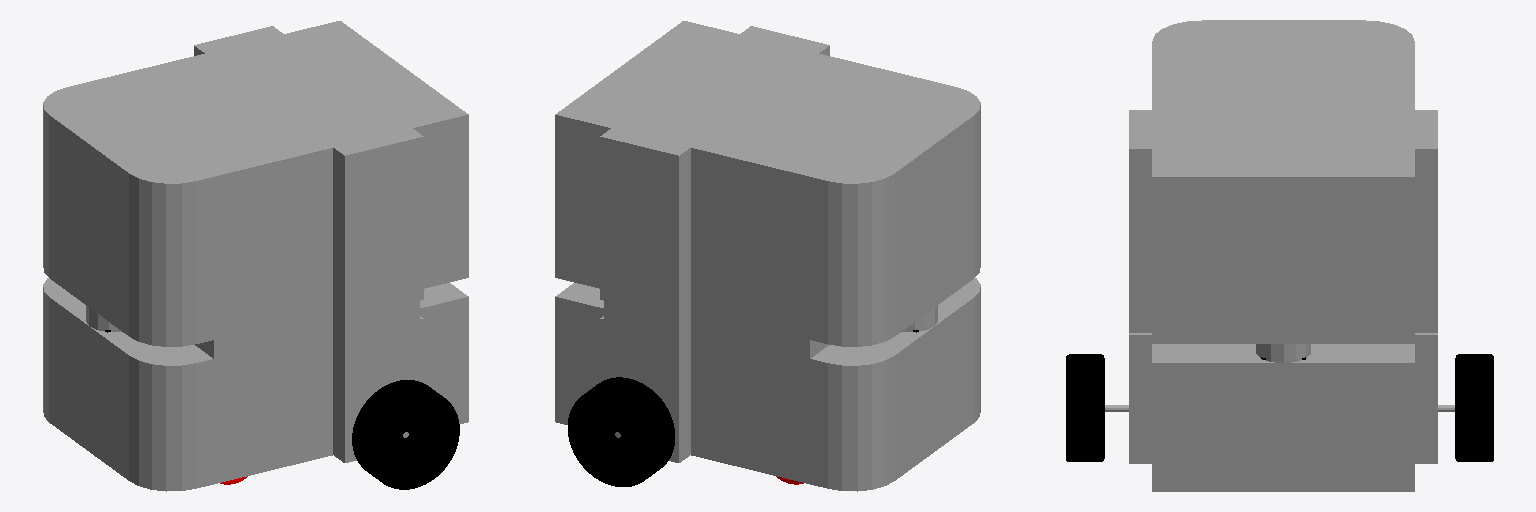
The robot description file, URDF, robot "myrobot":
<?xml version="1.0" ?>
<robot name="myrobot">
    <material name="white">
        <color rgba="1 1 1 1" />
    </material>
    <material name="bone">
        <color rgba="0.8 0.8 0.8 1" />
    </material>
    <material name="orange">
        <color rgba="1 0.3 0.1 1"/>
    </material>
    <material name="gray">
        <color rgba="0.7 0.7 0.7 1"/>
    </material>
    <material name="blue">
        <color rgba="0.2 0.2 1 1"/>
    </material>
    <material name="black">
        <color rgba="0 0 0 1"/>
    </material>
    <material name="red">
        <color rgba="1 0 0 1"/>
    </material>

    <!-- Base link -->
    <link name="base_link">
        <inertial>
            <origin xyz="0.00777178436482716 -1.12354729039397E-17 0.246949943244965" rpy="0 0 0" />
            <mass value="96.0948572509794" />
            <inertia ixx="3.14245232437096" ixy="-1.04912304881371E-16" ixz="0.0161471407091991" iyy="4.0258724967387" iyz="-1.47864698550876E-16" izz="3.27945603833626" />
        </inertial>
        <visual>
            <origin xyz="0 0 0" rpy="0 0 0" />
            <geometry>
                <mesh filename="package://articubot_one/meshes/base_link.STL" />
            </geometry>
            <material name="gray"/>
        </visual>
    </link>

    <!-- Base footprint -->
    <link name="base_footprint" />
    <joint name="base_footprint_joint" type="fixed">
        <origin xyz="0 0 -0.068" rpy="0 0 0" />
        <parent link="base_link" />
        <child link="base_footprint" />
    </joint>

    <!-- Right wheel -->
    <link name="right_wheel">
        <inertial>
            <origin xyz="0.10293 0.271206927284633 0.0555" rpy="0 0 0" />
            <mass value="0.653369098308289" />
            <inertia ixx="0.00138427900772175" ixy="1.30693402906786E-19" ixz="-5.71625798942975E-21" iyy="0.0024820518753049" iyz="2.82402881651372E-20" izz="0.00138427900772175" />
        </inertial>
        <visual>
            <origin xyz="0 0 0" rpy="0 0 0" />
            <geometry>
                <mesh filename="package://articubot_one/meshes/right_wheel.STL" />
            </geometry>
            <material name="black"/>
        </visual>
    </link>
    <joint name="right_wheel_joint" type="continuous">
        <origin xyz="0 0 0" rpy="0 0 0" />
        <parent link="base_link" />
        <child link="right_wheel" />
        <axis xyz="0 1 0" />
    </joint>

    <!-- Left wheel -->
    <link name="left_wheel">
        <inertial>
            <origin xyz="0.10293 -0.279993072715367 0.0555" rpy="0 0 0" />
            <mass value="0.653369098308289" />
            <inertia ixx="0.00138427900772175" ixy="2.72500195003145E-19" ixz="-2.12924816093808E-20" iyy="0.0024820518753049" iyz="-6.74640785923201E-21" izz="0.00138427900772175" />
        </inertial>
        <visual>
            <origin xyz="0 0 0" rpy="0 0 0" />
            <geometry>
                <mesh filename="package://articubot_one/meshes/left_wheel.STL" />
            </geometry>
            <material name="black"/>
        </visual>
    </link>
    <joint name="left_wheel_joint" type="continuous">
        <origin xyz="0 0 0" rpy="0 0 0" />
        <parent link="base_link" />
        <child link="left_wheel" />
        <axis xyz="0 -1 0" />
    </joint>

    <!-- Caster wheels -->
    <link name="caster_wheel_left">
        <inertial>
            <origin xyz="-0.1163 -0.1508 0.02242" rpy="0 0 0" />
            <mass value="0.156987742973928" />
            <inertia ixx="8.82316172591817E-05" ixy="6.84650465930315E-21" ixz="8.231219130141E-21" iyy="0.000155620648655828" iyz="9.08354603331562E-22" izz="8.82316172591817E-05" />
        </inertial>
        <visual>
            <origin xyz="0 0 0" rpy="0 0 0" />
            <geometry>
                <mesh filename="package://articubot_one/meshes/caster_wheel_right.STL" />
            </geometry>
            <material name="red"/>
        </visual>
    </link>
    <joint name="caster_wheel_left_joint" type="fixed">
        <origin xyz="0 -0.302 0" rpy="0 0 0" />
        <parent link="base_link" />
        <child link="caster_wheel_left" />
    </joint>

    <link name="caster_wheel_right">
        <inertial>
            <origin xyz="-0.1163 0.1508 0.02242" rpy="0 0 0" />
            <mass value="0.156987742973928" />
            <inertia ixx="8.82316172591817E-05" ixy="6.84650465930315E-21" ixz="8.231219130141E-21" iyy="0.000155620648655828" iyz="9.08354603331562E-22" izz="8.82316172591817E-05" />
        </inertial>
        <visual>
            <origin xyz="0 0 0" rpy="0 0 0" />
            <geometry>
                <mesh filename="package://articubot_one/meshes/caster_wheel_right.STL" />
            </geometry>
            <material name="red"/>
        </visual>
    </link>
    <joint name="caster_wheel_right_joint" type="fixed">
        <origin xyz="0 0 0" rpy="0 0 0" />
        <parent link="base_link" />
        <child link="caster_wheel_right" />
    </joint>

    <!-- Laser frame 1 -->
    <link name="laser_frame_1">
        <inertial>
            <origin xyz="0 0 0" rpy="0 0 0" />
            <mass value="0" />
            <inertia ixx="0" ixy="0" ixz="0" iyy="0" iyz="0" izz="0" />
        </inertial>
        <visual>
            <origin xyz="0 0 0" rpy="0 0 0" />
            <geometry>
                <mesh filename="package://articubot_one/meshes/laser_frame.STL" />
            </geometry>
            <material name="black"/>
        </visual>
    </link>
    <joint name="laser_frame_1_joint" type="fixed">
        <origin xyz="0.22 0 0.215" rpy="0 0 3.14159" />
        <parent link="base_link" />
        <child link="laser_frame_1" />
    </joint>

    <!-- Laser frame 2 -->
    <link name="laser_frame_2">
        <inertial>
            <origin xyz="0 0 0" rpy="0 0 0" />
            <mass value="0" />
            <inertia ixx="0" ixy="0" ixz="0" iyy="0" iyz="0" izz="0" />
        </inertial>
        <visual>
            <origin xyz="0 0 0" rpy="0 0 0" />
            <geometry>
                <mesh filename="package://articubot_one/meshes/laser_frame.STL" />
            </geometry>
            <material name="black"/>
        </visual>
    </link>
    <joint name="laser_frame_2_joint" type="fixed">
        <origin xyz="-0.22 0 0.215" rpy="0 0 0" />
        <parent link="base_link" />
        <child link="laser_frame_2" />
    </joint>


</robot>

--- What the picture shows (computed from the rendered views, not written in the file) ---
3 views of the same robot in one strip: view 1: azimuth 30°, elevation 25°; view 2: azimuth 150°, elevation 25°; view 3: azimuth 270°, elevation 25° (orthographic).
Robot: myrobot — 8 links, 7 joints (2 continuous, 5 fixed); root link base_link; default pose: every joint at zero.
Visible links, largest first — view 1: base_link, left_wheel; view 2: base_link, right_wheel; view 3: base_link, right_wheel, left_wheel.
Link boxes in pixels (x1,y1,x2,y2): base_link: (43,21,468,491); left_wheel: (352,380,459,489); base_link: (555,21,980,491); right_wheel: (568,377,674,486); base_link: (1105,20,1454,491); right_wheel: (1455,354,1493,461); left_wheel: (1066,354,1104,461).
Bounding box of the posed robot: 0.525 × 0.6062 × 0.5114 m (x, y, z).
7 mesh visuals loaded from 5 distinct referenced files (5 binary STL).